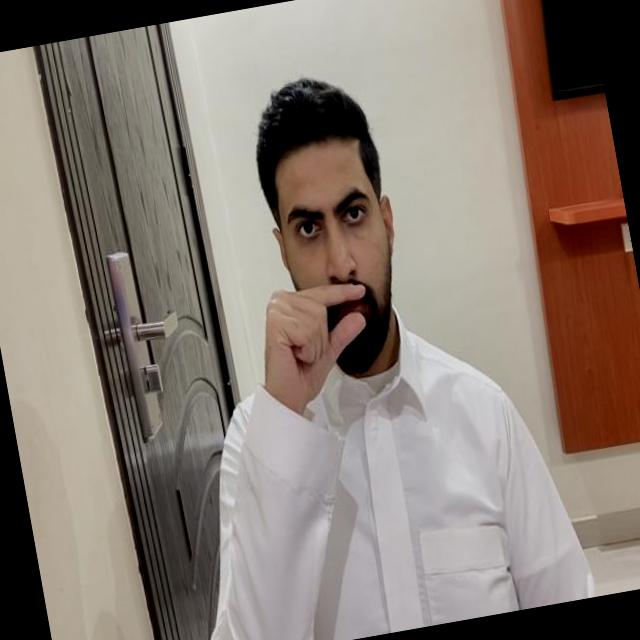fasting: (247, 273, 385, 420)
